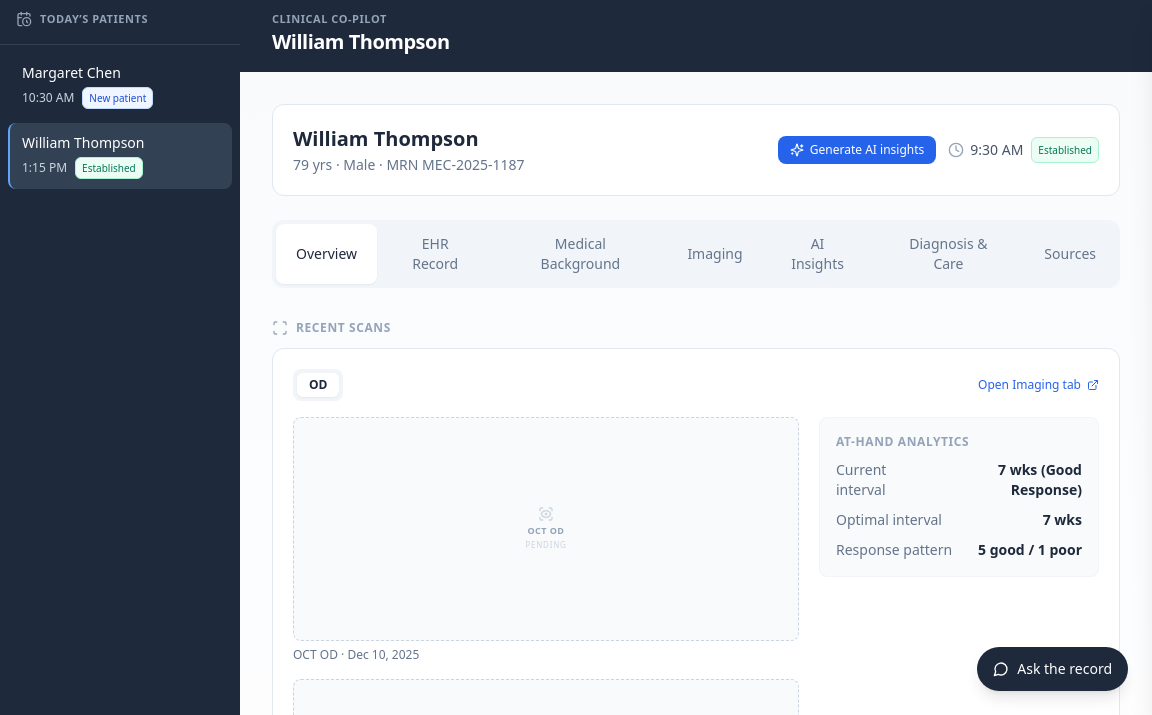
App landing (deterministic overview) › renders protocol and follow-up from a treatment-bearing care_plan
Click the tab "Diagnosis & Care" at (948, 254), box top-left (872, 224), bottom-right (1024, 284)
(page scrolled)
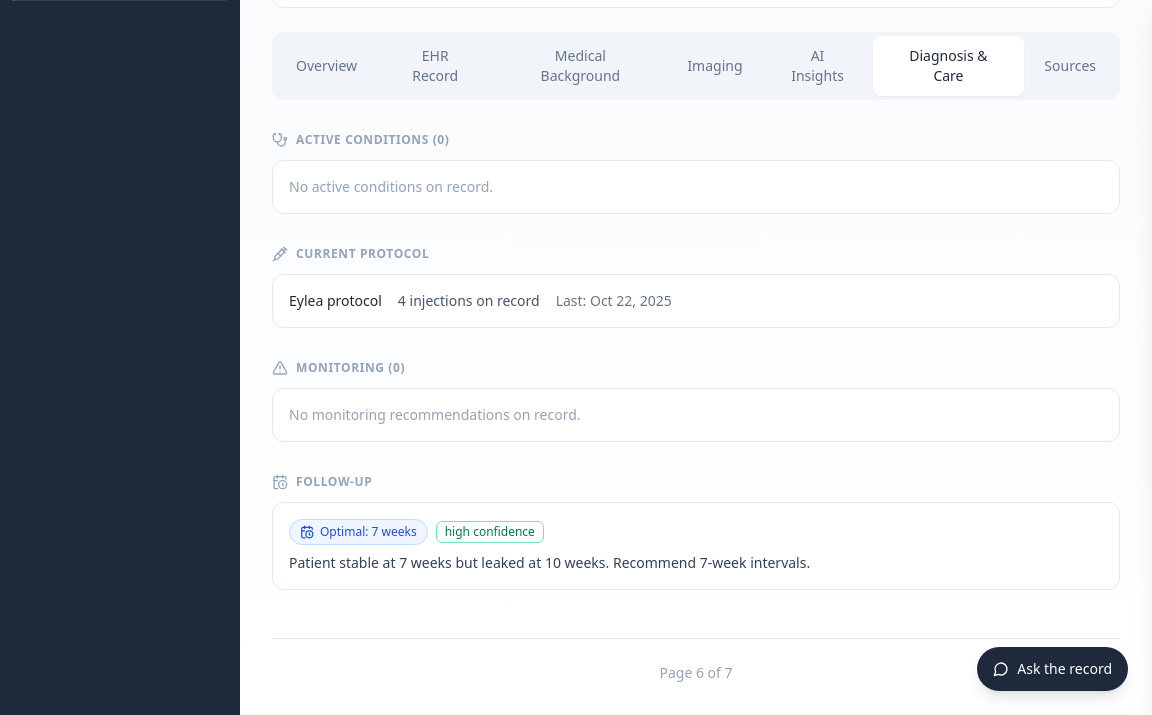
Check: the element with test id "protocol-card" shows "Eylea protocol", box top-left (289, 290), bottom-right (672, 310)
Check: the element with test id "protocol-card" shows "4 injections on record", box top-left (289, 290), bottom-right (672, 310)
Check: the element with test id "protocol-card" shows "Last: Oct 22, 2025", box top-left (289, 290), bottom-right (672, 310)
